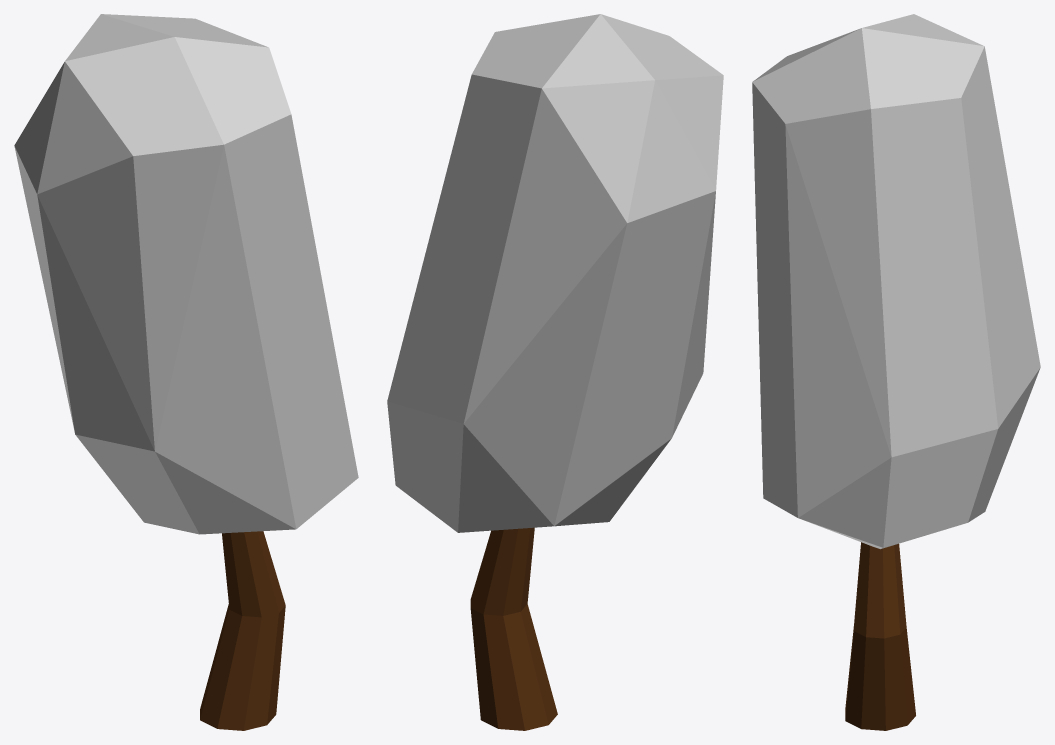
Rendered from Tree_05.fbx.
3 renders of one model, left to right at view 1: azimuth 30°, elevation 25°; view 2: azimuth 150°, elevation 25°; view 3: azimuth 270°, elevation 25°, orthographic. The views are drawn at different scales.
Visible parts, largest first — view 1: Tree_05; view 2: Tree_05; view 3: Tree_05.
Boxes of the visible parts, box(x1,y1,x2,y2) form: Tree_05: box(14, 14, 358, 730); Tree_05: box(387, 14, 723, 730); Tree_05: box(752, 14, 1040, 730).
Bounding box in the file's own units: 265 × 592 × 236.
